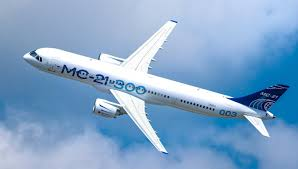maybay_dansu: (14, 24, 285, 151)
